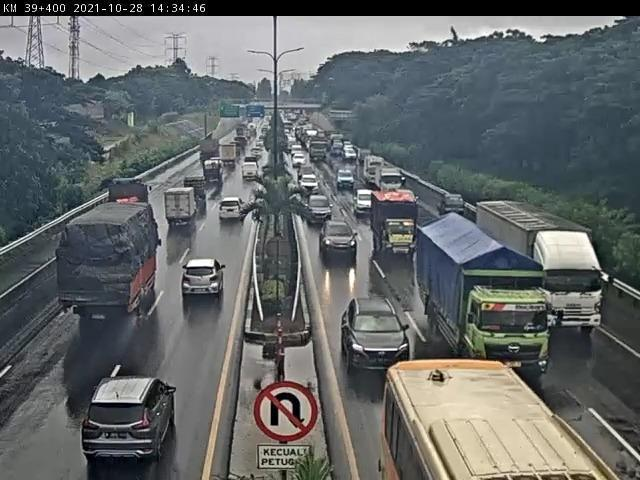Bus: (378, 360, 616, 480)
